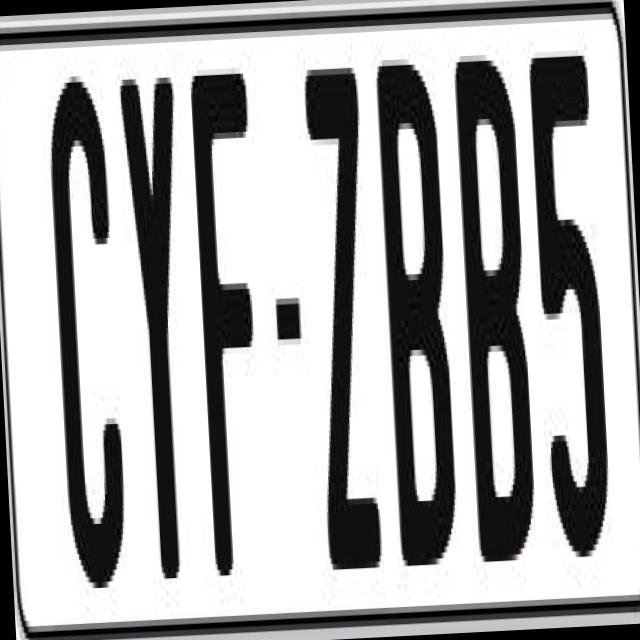5: (528, 54, 618, 576)
B: (376, 64, 462, 596), (452, 42, 538, 545)
C: (41, 70, 124, 584)
F: (186, 73, 272, 600)
Y: (120, 71, 203, 592)
Z: (298, 68, 382, 600)
